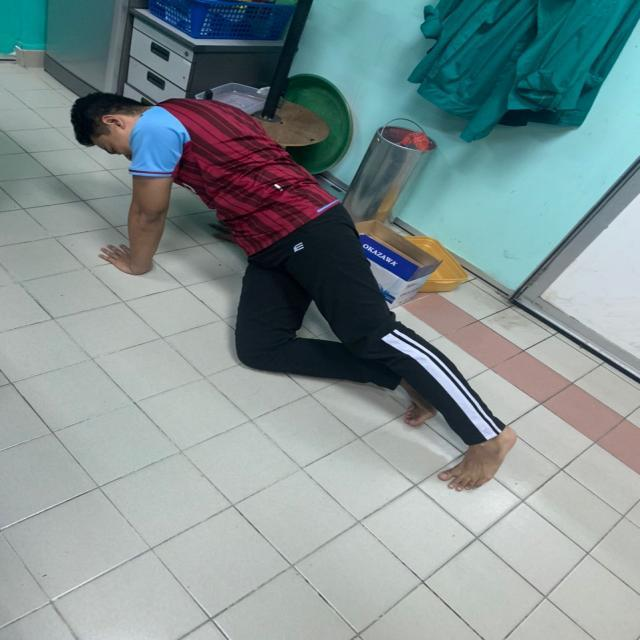fall: (72, 78, 524, 490)
